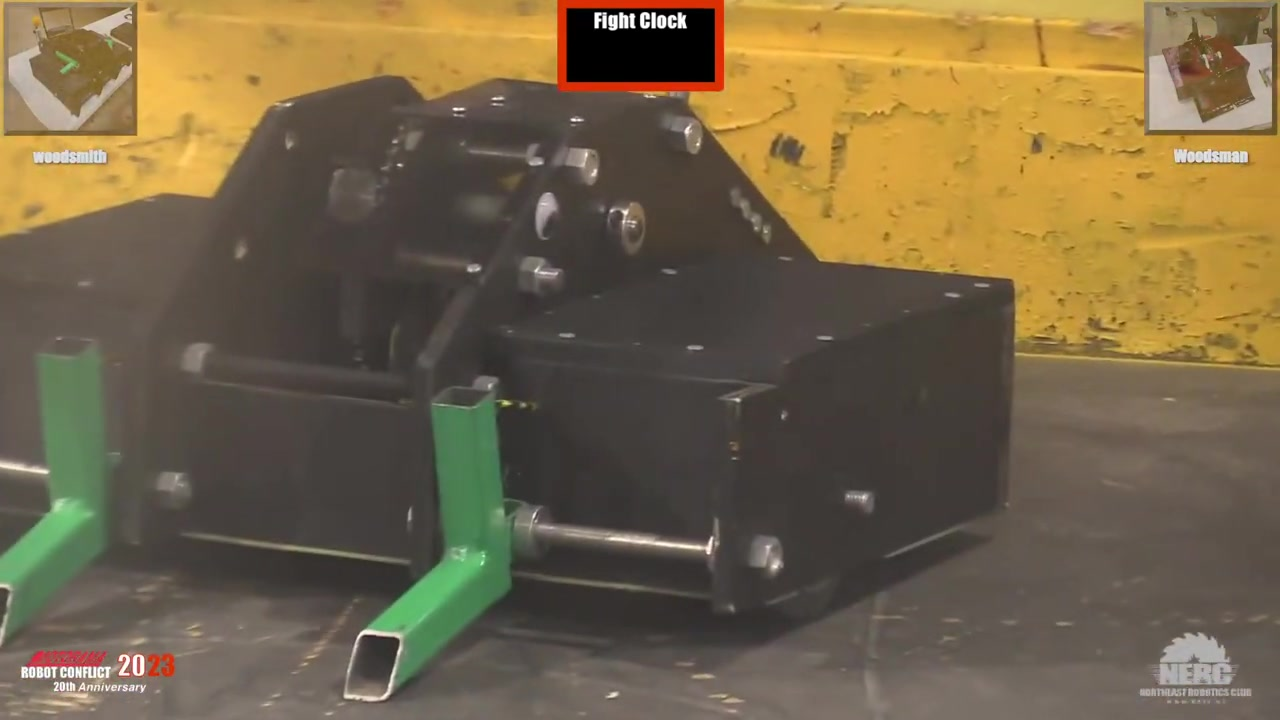combatbot: (0, 191, 1017, 619)
